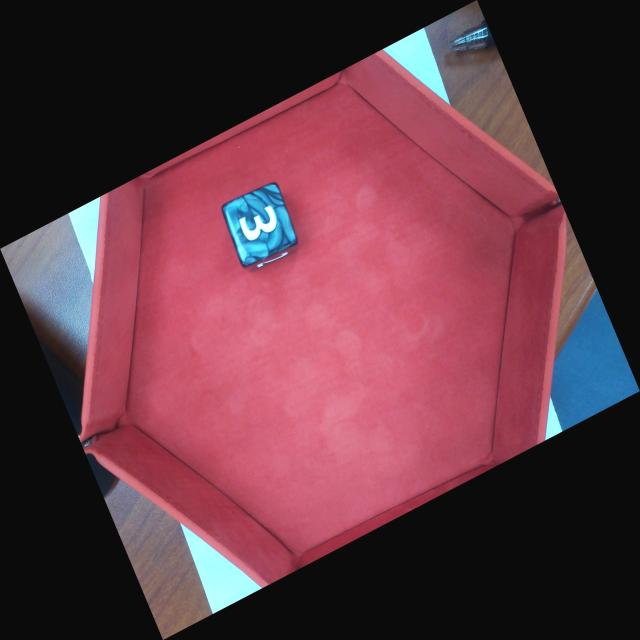dice: (229, 181, 301, 262)
